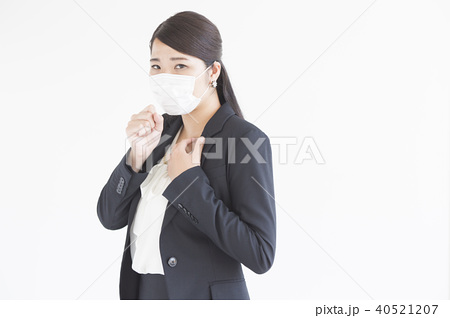mask: (146, 75, 202, 117)
